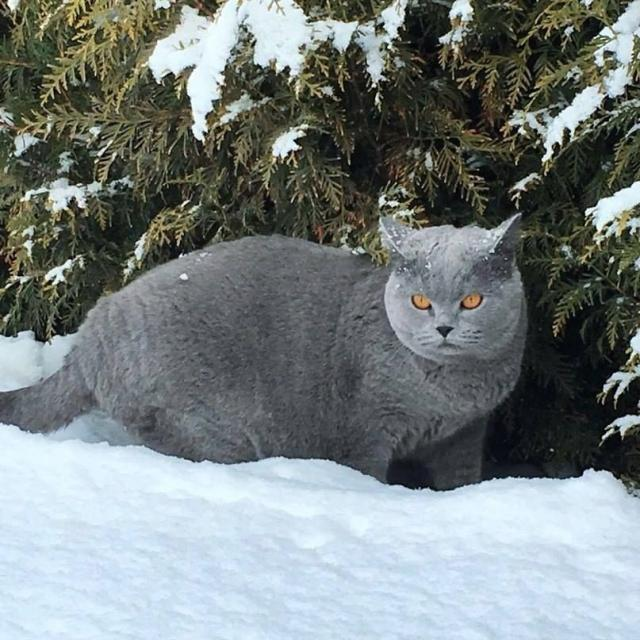british shorthair: (0, 129, 640, 640)
